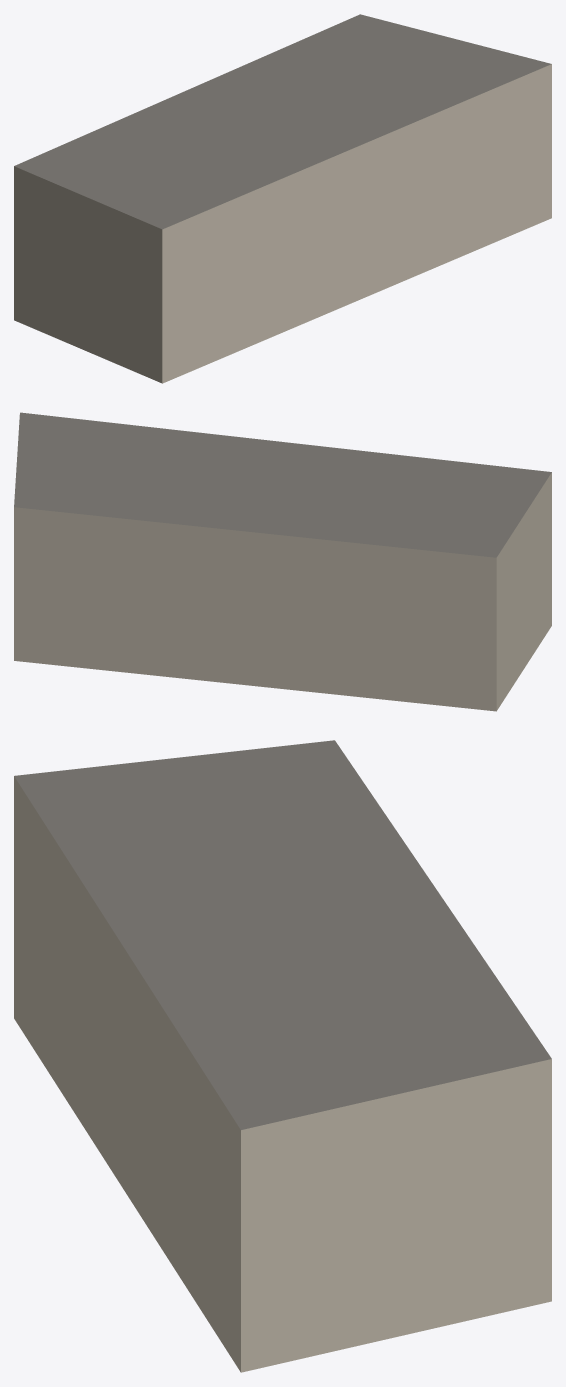
3 renders of one model, top to bottom at view 1: azimuth 30°, elevation 25°; view 2: azimuth 150°, elevation 25°; view 3: azimuth 270°, elevation 25°, orthographic. The views are drawn at different scales.
Visible parts, largest first — view 1: HP-w756799578; view 2: HP-w756799578; view 3: HP-w756799578.
Part boxes in pixels (x1,y1,x2,y2): HP-w756799578: (14, 14, 551, 383); HP-w756799578: (14, 412, 551, 711); HP-w756799578: (14, 740, 551, 1372).
Size of the model in its own units: 41.38 by 12 by 24.13.
